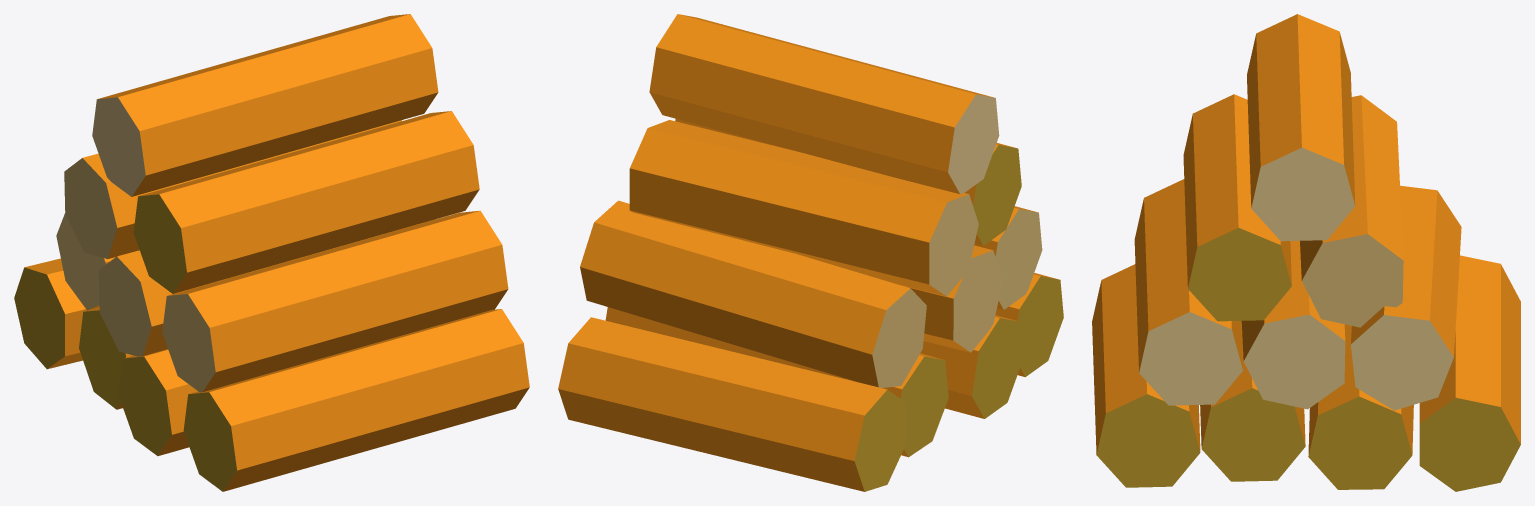
The model's file is smalllogpile 1.fbx.
3 views of the same model, side by side, from view 1: azimuth 30°, elevation 25°; view 2: azimuth 150°, elevation 25°; view 3: azimuth 270°, elevation 25° (orthographic).
Parts seen in each view (by area): view 1: small_log_pile1; view 2: small_log_pile1; view 3: small_log_pile1.
Part boxes in pixels (x1,y1,x2,y2): small_log_pile1: (14, 14, 529, 491); small_log_pile1: (558, 14, 1063, 491); small_log_pile1: (1092, 14, 1520, 491).
Size of the model in its own units: 4.34 by 4.45 by 5.06.
